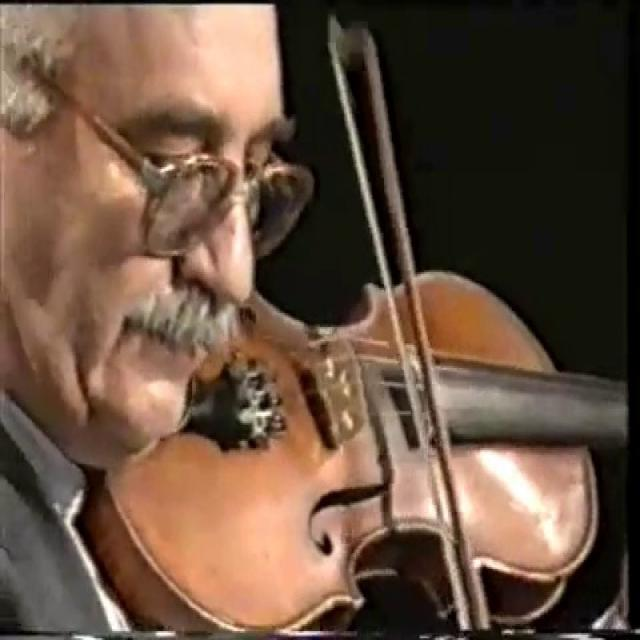Violin: (74, 271, 632, 636)
